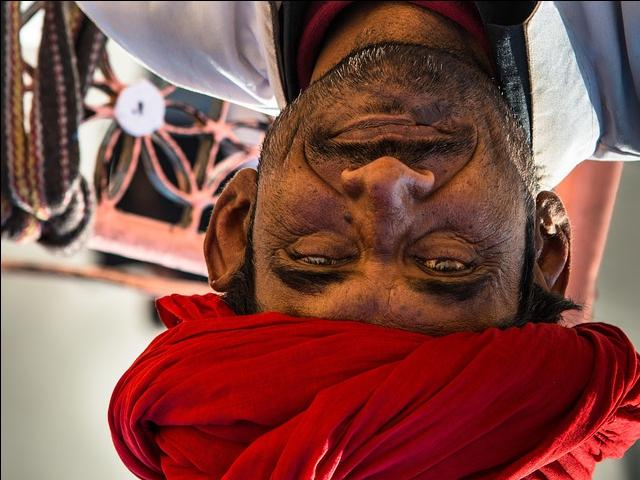Non_Gorille: (57, 0, 622, 478)
